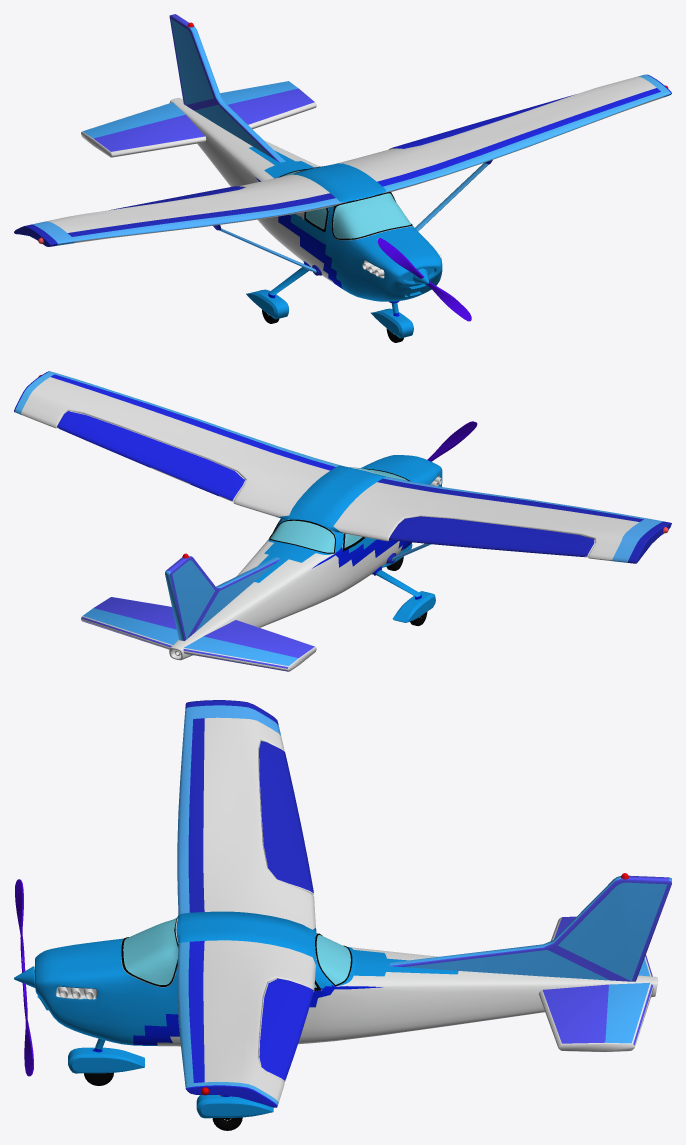
File: snowplane.fbx
The picture shows the model from 3 angles, top to bottom: view 1: azimuth 30°, elevation 25°; view 2: azimuth 150°, elevation 25°; view 3: azimuth 270°, elevation 25°; orthographic projection. The views are drawn at different scales.
Visible parts, largest first — view 1: plane_low_poly, Leftwing, Tail, Rightwing, Propeller; view 2: Leftwing, plane_low_poly, Rightwing, Tail, Propeller; view 3: plane_low_poly, Rightwing, Leftwing, Tail, Propeller.
Part boxes in pixels (x1=…): plane_low_poly: x1=169, y1=98, x2=442, y2=342; Leftwing: x1=335, y1=74, x2=671, y2=231; Tail: x1=81, y1=14, x2=316, y2=162; Rightwing: x1=14, y1=174, x2=346, y2=275; Propeller: x1=377, y1=238, x2=471, y2=321; Leftwing: x1=14, y1=371, x2=340, y2=516; plane_low_poly: x1=169, y1=455, x2=442, y2=660; Rightwing: x1=333, y1=476, x2=671, y2=563; Tail: x1=81, y1=553, x2=316, y2=671; Propeller: x1=427, y1=421, x2=477, y2=461; plane_low_poly: x1=14, y1=911, x2=657, y2=1130; Rightwing: x1=177, y1=700, x2=315, y2=929; Leftwing: x1=177, y1=940, x2=315, y2=1107; Tail: x1=389, y1=873, x2=671, y2=1052; Propeller: x1=15, y1=879, x2=33, y2=1076.
Size of the model in its own units: 341 by 86.29 by 242.
